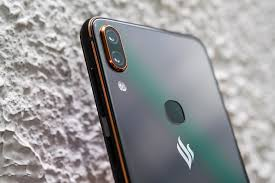vsmart: (77, 12, 250, 183)
